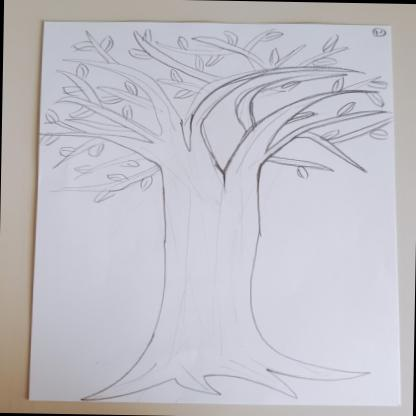branch_sharp: (44, 27, 392, 206)
root_only: (78, 338, 370, 406)
trunk_bark: (136, 176, 273, 340)
